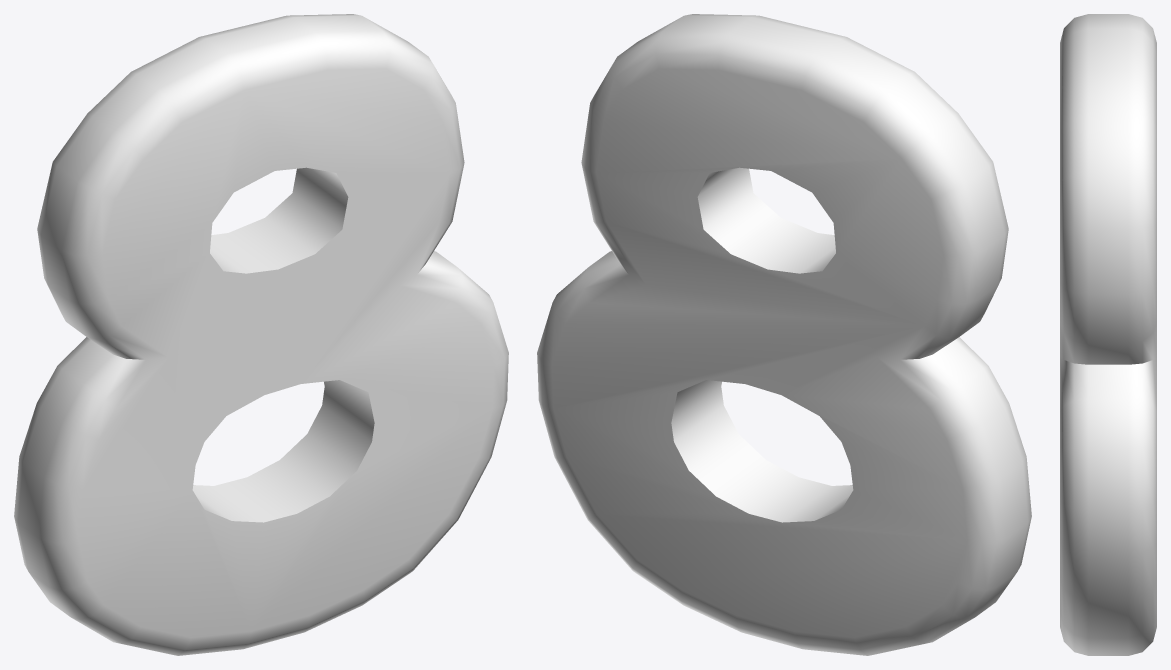
Rendered from NumberEight 2.fbx.
3 views of the same model, side by side, from view 1: azimuth 30°, elevation 25°; view 2: azimuth 150°, elevation 25°; view 3: azimuth 270°, elevation 25° (orthographic). The views are drawn at different scales.
Visible parts, largest first — view 1: Vert.020; view 2: Vert.020; view 3: Vert.020.
Part boxes in pixels (box(x1,y1,x2,y2)): Vert.020: box(14, 14, 508, 655); Vert.020: box(537, 14, 1031, 655); Vert.020: box(1060, 14, 1156, 655).
Bounding box in the file's own units: 375 × 458 × 69.56.
